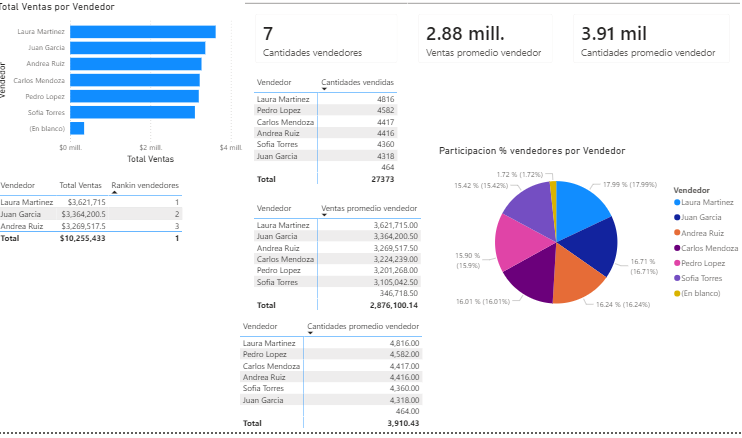

What the dashboard file says about the page in this screenshot:
{"tool":"powerbi","page":{"name":"Vendedores","canvas":[1280,720],"ordinal":4},"visuals":[{"type":"barChart","fields":{"Category":["DimVendedor.Vendedor"],"Y":["FactVentas.Total Ventas"]},"box":[0,0,418.8,277.5],"z":0},{"type":"tableEx","fields":{"Values":["DimVendedor.Vendedor","FactVentas.Total Ventas","FactVentas.Rankin vendedores"]},"box":[0,292.5,330,135],"z":1000},{"type":"cardVisual","fields":{"Data":["FactVentas.Cantidades vendedores"]},"box":[418.8,0,271.2,121.2],"z":2000},{"type":"pivotTable","fields":{"Rows":["DimVendedor.Vendedor"],"Values":["FactVentas.Cantidades vendidas"]},"box":[428.8,121.2,261.2,192.5],"z":3000},{"type":"pivotTable","fields":{"Rows":["DimVendedor.Vendedor"],"Values":["FactVentas.Ventas promedio vendedor"]},"box":[428.8,331.2,308.8,196.2],"z":4000},{"type":"pivotTable","fields":{"Rows":["DimVendedor.Vendedor"],"Values":["FactVentas.Cantidades promedio vendedor"]},"box":[405,528.3,353.8,192.5],"z":5000},{"type":"cardVisual","fields":{"Data":["FactVentas.Ventas promedio vendedor"]},"box":[690,0,258.8,121.2],"z":6000},{"type":"cardVisual","fields":{"Data":["FactVentas.Cantidades promedio vendedor"]},"box":[948.8,0,295,121.2],"z":7000},{"type":"pieChart","fields":{"Category":["DimVendedor.Vendedor"],"Y":["FactVentas.Participacion % vendedores"]},"box":[736.7,240,518.8,308.8],"z":8000}]}

Visuals, with their boxes on the page's 1280x720 design canvas (x1, y1, x2, y2). These are canvas units, not pixel positions in the 742x438 screenshot, which may show the page scaled, cropped or inside an application window:
barChart - DimVendedor.Vendedor x FactVentas.Total Ventas: pyautogui.locateOnScreen(0, 0, 419, 278)
tableEx - DimVendedor.Vendedor x FactVentas.Total Ventas: pyautogui.locateOnScreen(0, 292, 330, 428)
cardVisual - FactVentas.Cantidades vendedores: pyautogui.locateOnScreen(419, 0, 690, 121)
pivotTable - DimVendedor.Vendedor x FactVentas.Cantidades vendidas: pyautogui.locateOnScreen(429, 121, 690, 314)
pivotTable - DimVendedor.Vendedor x FactVentas.Ventas promedio vendedor: pyautogui.locateOnScreen(429, 331, 738, 527)
pivotTable - DimVendedor.Vendedor x FactVentas.Cantidades promedio vendedor: pyautogui.locateOnScreen(405, 528, 759, 721)
cardVisual - FactVentas.Ventas promedio vendedor: pyautogui.locateOnScreen(690, 0, 949, 121)
cardVisual - FactVentas.Cantidades promedio vendedor: pyautogui.locateOnScreen(949, 0, 1244, 121)
pieChart - DimVendedor.Vendedor x FactVentas.Participacion % vendedores: pyautogui.locateOnScreen(737, 240, 1256, 549)
